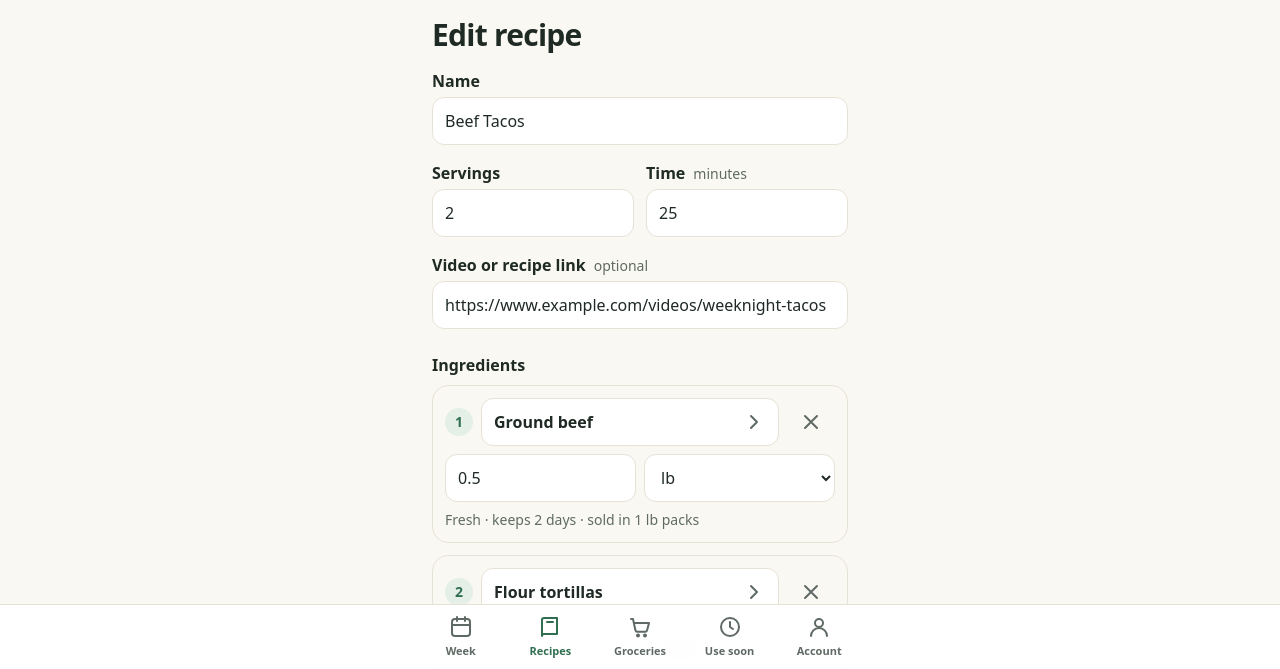
Test: recipe form › rejects a javascript: link
Replace the text in the field labelled "Video or recipe link" with "javascript:alert(1)": (640, 305) [432,281,848,329]
(page scrolled)
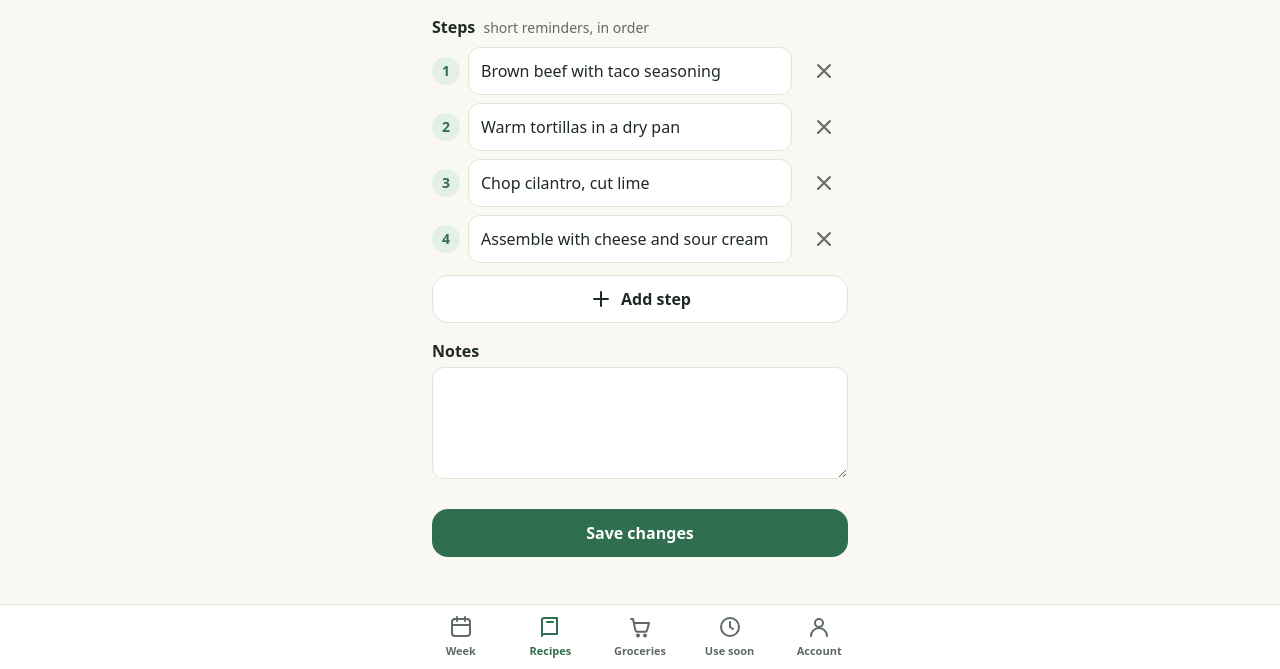
Click the button "Save changes": (640, 533) [432,509,848,557]
(page scrolled)
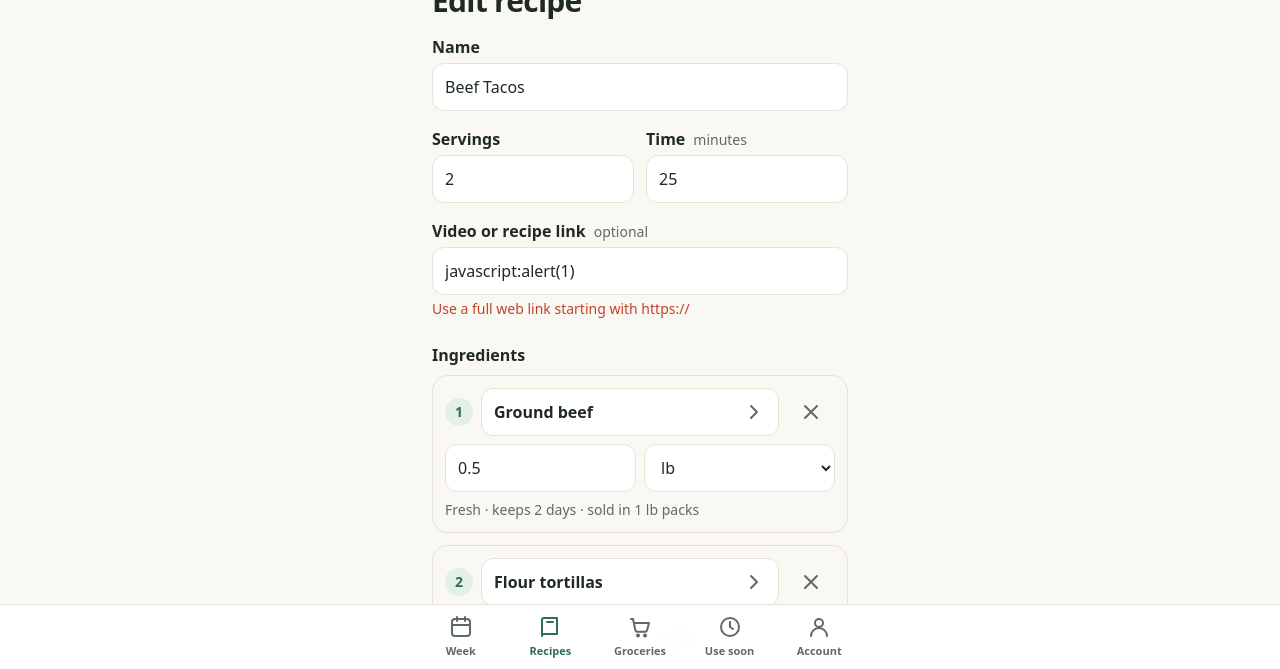
Result: the text "Use a full web link starting with https://" is shown at [432,299,690,318]
